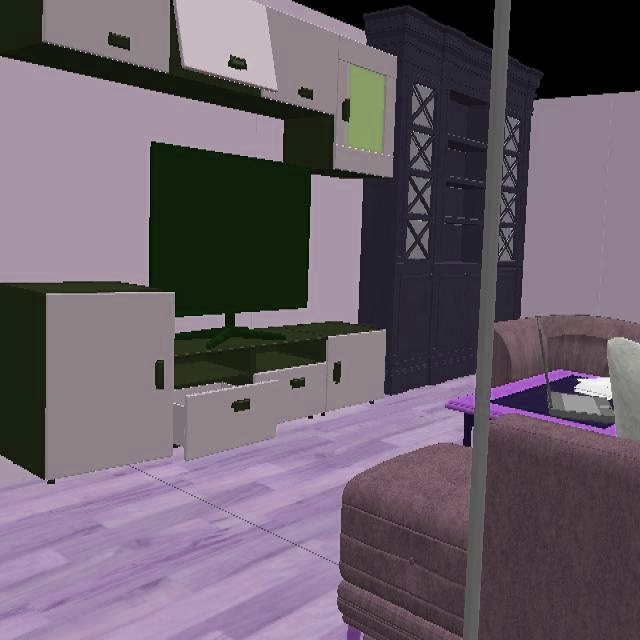book: (575, 377, 612, 401)
bookshelf: (339, 12, 542, 396)
cabinet: (0, 281, 387, 481)
laptop: (538, 319, 615, 425)
monitor: (147, 143, 312, 319)
pillow: (607, 337, 640, 443)
sofa: (479, 413, 640, 640), (348, 443, 472, 640), (492, 315, 640, 399)
table: (490, 369, 616, 436), (445, 393, 475, 416)
